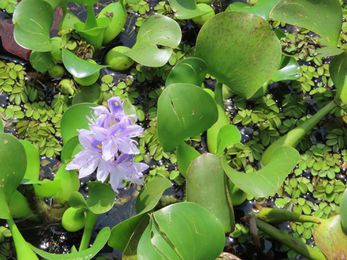water_hyacinth: (1, 1, 347, 260)
